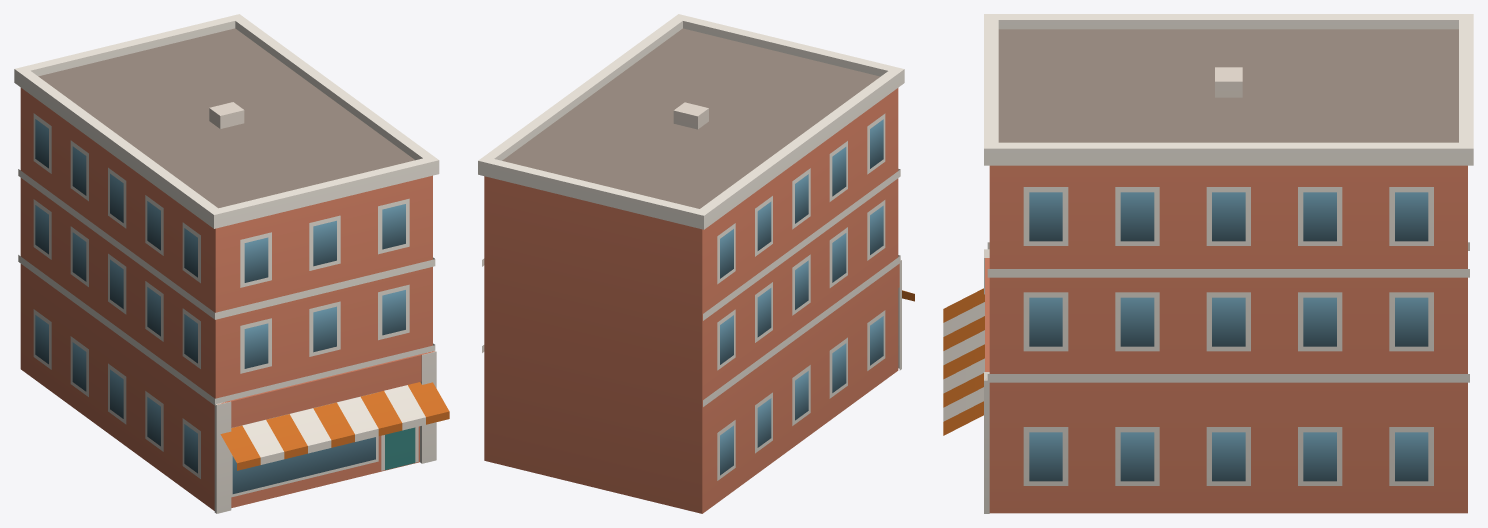
The model's file is boylston_s18_far.glb.
3 renders of one model, left to right at view 1: azimuth 30°, elevation 25°; view 2: azimuth 150°, elevation 25°; view 3: azimuth 270°, elevation 25°, orthographic. The views are drawn at different scales.
Visible parts, largest first — view 1: boylston_s18_far; view 2: boylston_s18_far; view 3: boylston_s18_far.
Boxes of the visible parts, bbox=[...] form: boylston_s18_far: bbox=[14, 14, 449, 513]; boylston_s18_far: bbox=[478, 14, 914, 513]; boylston_s18_far: bbox=[943, 14, 1473, 513].
Bounding box in the file's own units: 9.32 × 12.07 × 15.51.
Materials: 1 (1 with a texture image).
